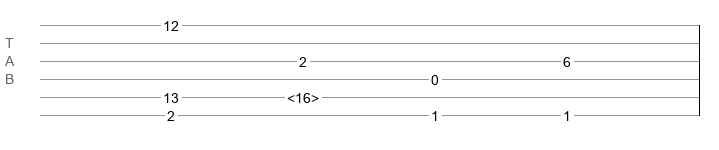0: (431, 72, 439, 82)
1: (431, 108, 439, 118), (563, 108, 571, 118)
12: (163, 18, 179, 28)
13: (163, 90, 179, 100)
2: (167, 108, 175, 118), (299, 54, 307, 64)
6: (563, 54, 571, 64)
harmonic: (287, 90, 319, 100)
